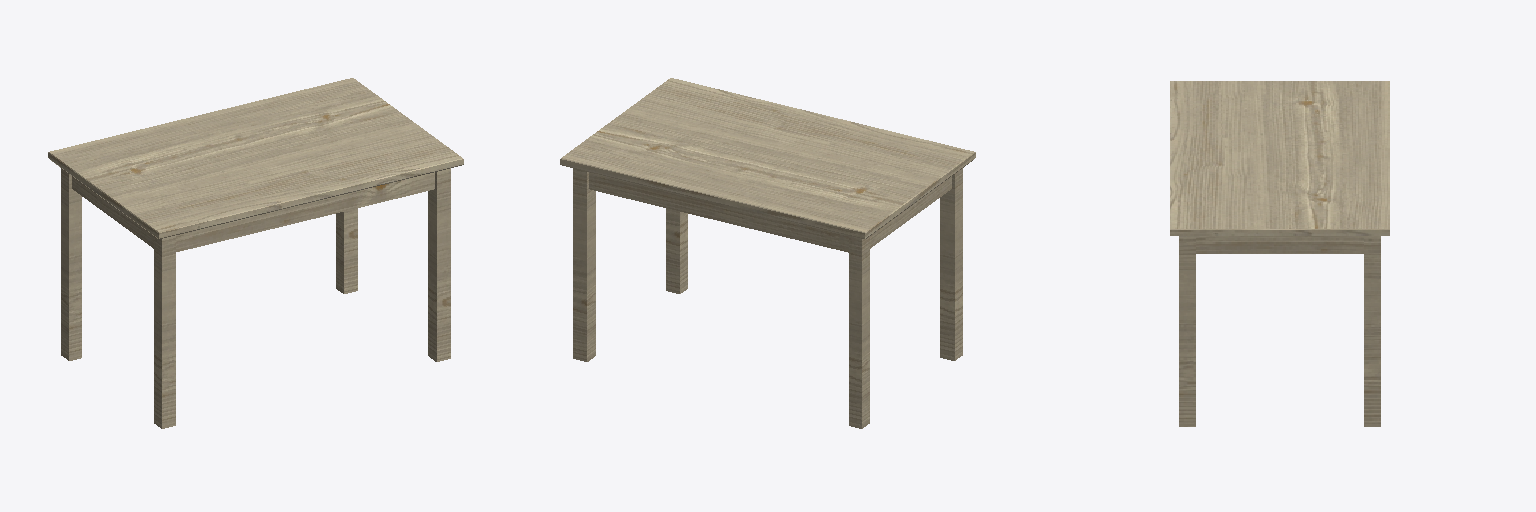
3 renders of one model, left to right at view 1: azimuth 30°, elevation 25°; view 2: azimuth 150°, elevation 25°; view 3: azimuth 270°, elevation 25°, orthographic.
Visible parts, largest first — view 1: Mesh1 Component_1_1 Model; view 2: Mesh1 Component_1_1 Model; view 3: Mesh1 Component_1_1 Model.
Part boxes in pixels (left/top/right/bottom): Mesh1 Component_1_1 Model: left=48, top=78, right=463, bottom=428; Mesh1 Component_1_1 Model: left=560, top=78, right=975, bottom=428; Mesh1 Component_1_1 Model: left=1170, top=81, right=1389, bottom=426.
Size of the model in its own units: 118 by 74.7 by 74.
Materials: 2 (1 with a texture image).